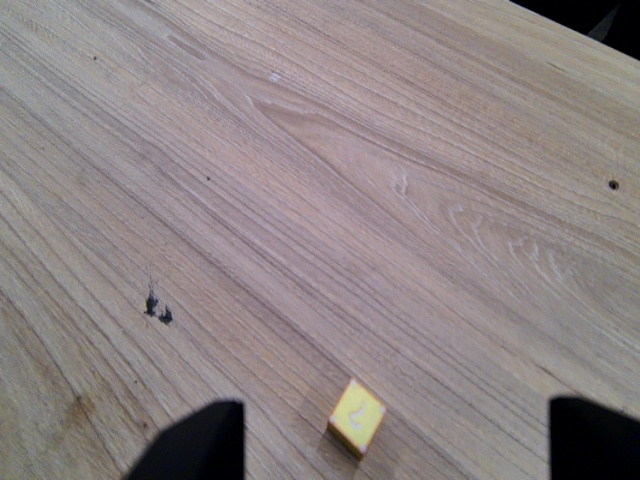lucky: (325, 375, 389, 462)
